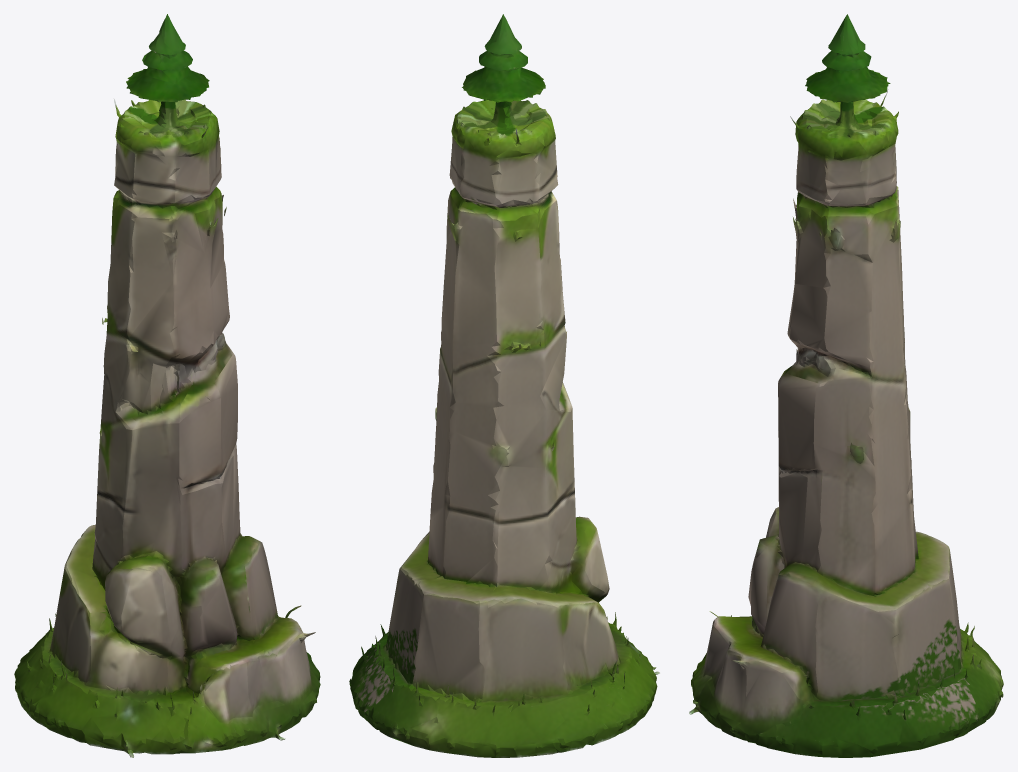
File: spire.glb
3 renders of one model, left to right at view 1: azimuth 30°, elevation 25°; view 2: azimuth 150°, elevation 25°; view 3: azimuth 270°, elevation 25°, orthographic.
Parts seen in each view (by area): view 1: Rodin_spire; view 2: Rodin_spire; view 3: Rodin_spire.
Boxes of the visible parts, box(x1,y1,x2,y2) form: Rodin_spire: box(14, 14, 320, 757); Rodin_spire: box(349, 14, 660, 757); Rodin_spire: box(689, 14, 1003, 757).
Bounding box in the file's own units: 0.7807 × 1.9 × 0.7952.
Materials: 1 (1 with a texture image).
